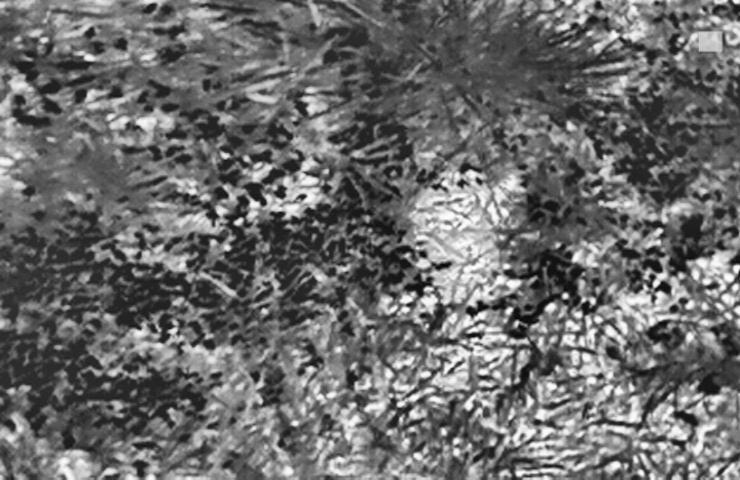landmines: (402, 161, 523, 305)
